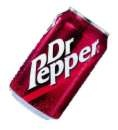grozi_59: (9, 8, 109, 120)
